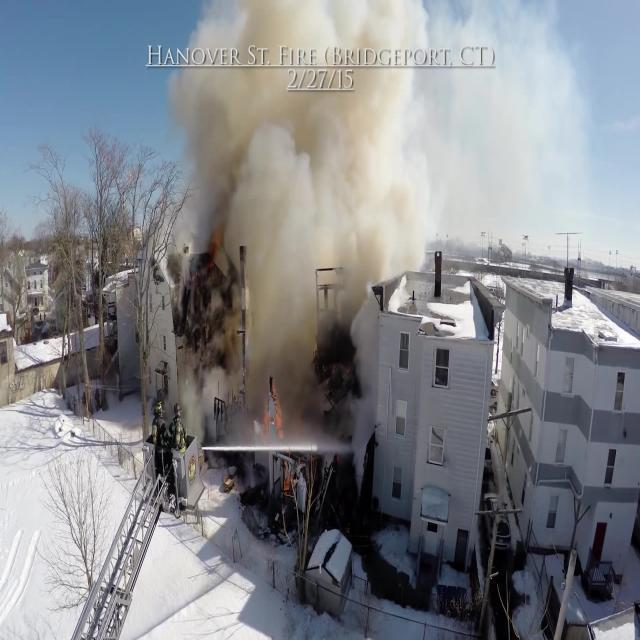Smoke: (192, 0, 438, 426)
